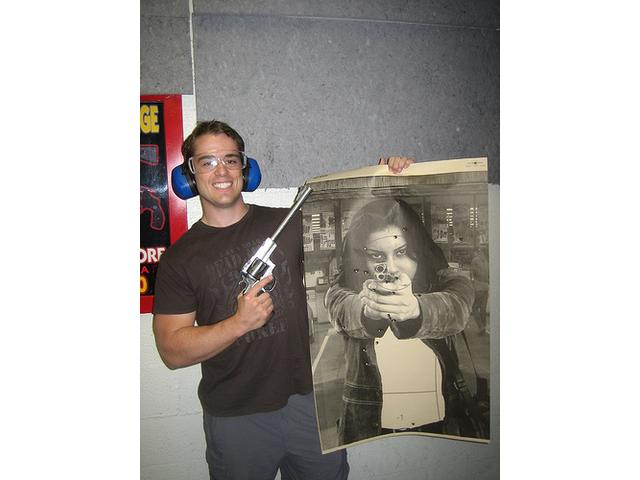pistol: (233, 183, 318, 320)
